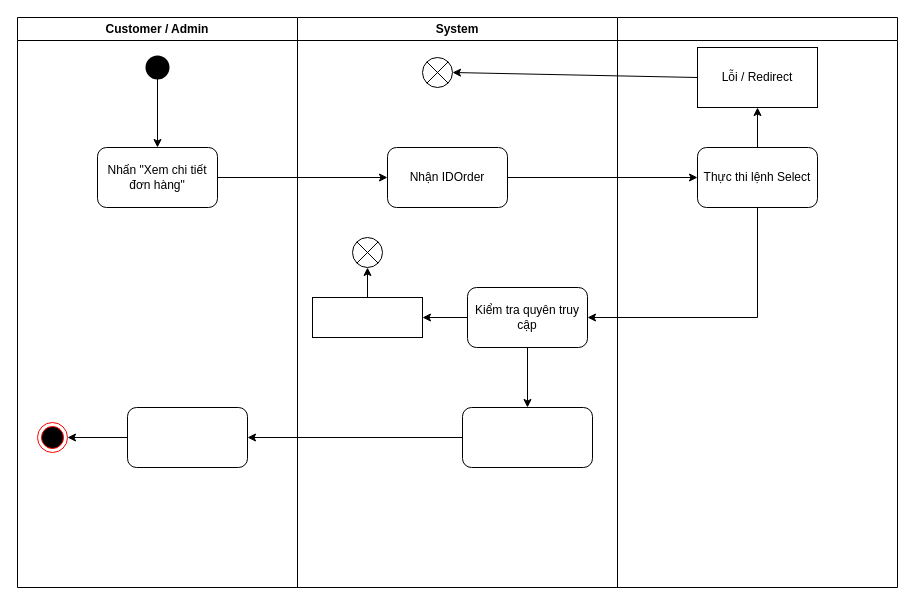
The diagram is 915 pixels wide and 605 high, and some of its shapes have lost their labels. The shapes that lost their labels are listed below. From the top down, each one's box as (x1, y1, x2, y2) in pixels, then its label:
(312, 296, 422, 338): Không có quyền truy cập
(616, 16, 898, 588): Database
(126, 406, 248, 468): Customer / Admin xem và tương tác
(462, 406, 592, 468): Hiển thị trang chi tiết đơn hàn
